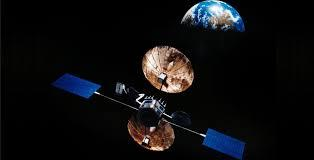antenna: (141, 45, 195, 94), (127, 113, 176, 152), (171, 109, 192, 126)
body: (137, 95, 167, 125)
solar: (202, 127, 246, 160), (52, 72, 102, 99)
